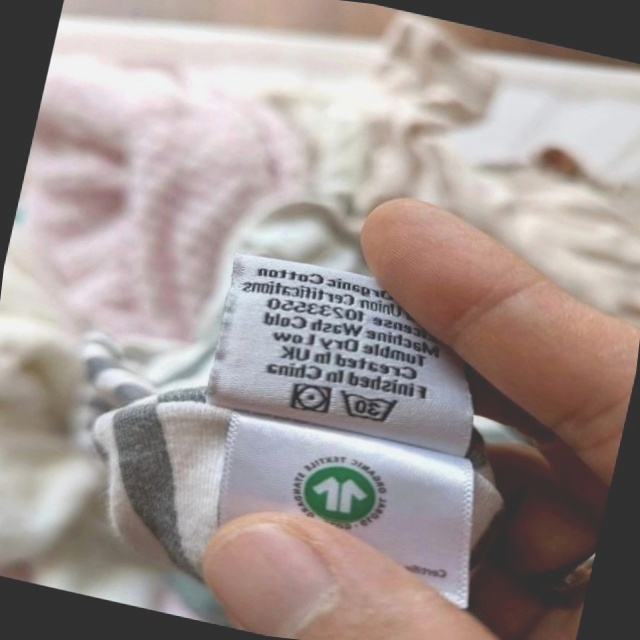30C: (332, 383, 405, 431)
tumble_dry_low: (285, 376, 336, 421)
